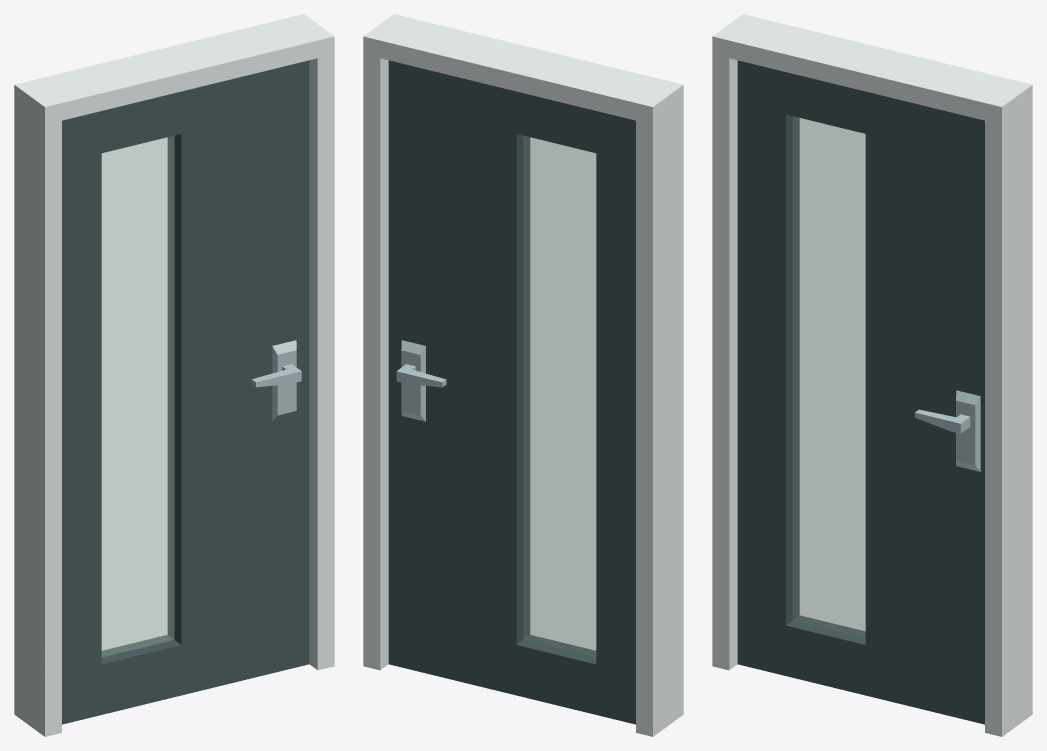
Rendered from Doorway Front.glb.
3 views of the same model, side by side, from view 1: azimuth 30°, elevation 25°; view 2: azimuth 150°, elevation 25°; view 3: azimuth 330°, elevation 25° (orthographic).
Parts seen in each view (by area): view 1: door, doorwayFront(Clone); view 2: door, doorwayFront(Clone); view 3: door, doorwayFront(Clone).
Boxes of the visible parts, left/top/right/bottom form: door: left=62, top=60, right=309, bottom=724; doorwayFront(Clone): left=14, top=14, right=334, bottom=736; door: left=388, top=60, right=635, bottom=724; doorwayFront(Clone): left=363, top=14, right=683, bottom=736; door: left=737, top=60, right=984, bottom=724; doorwayFront(Clone): left=712, top=14, right=1032, bottom=736.
Bounding box in the file's own units: 0.486 × 1.01 × 0.1134.
